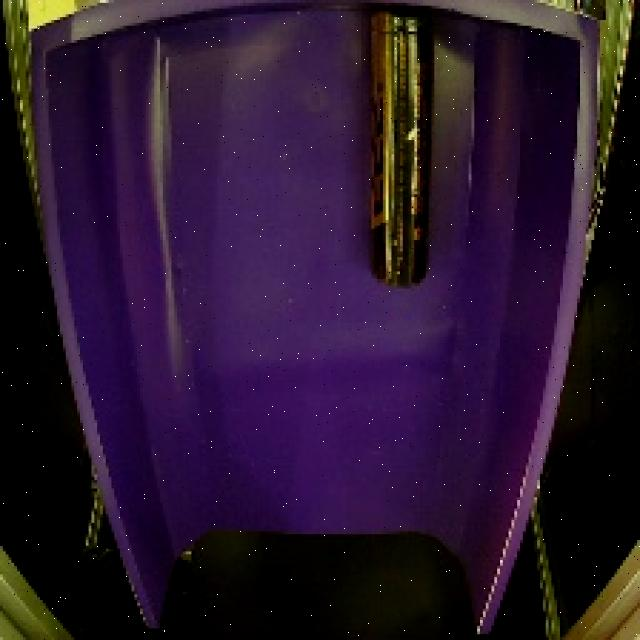battery: (358, 0, 443, 298)
